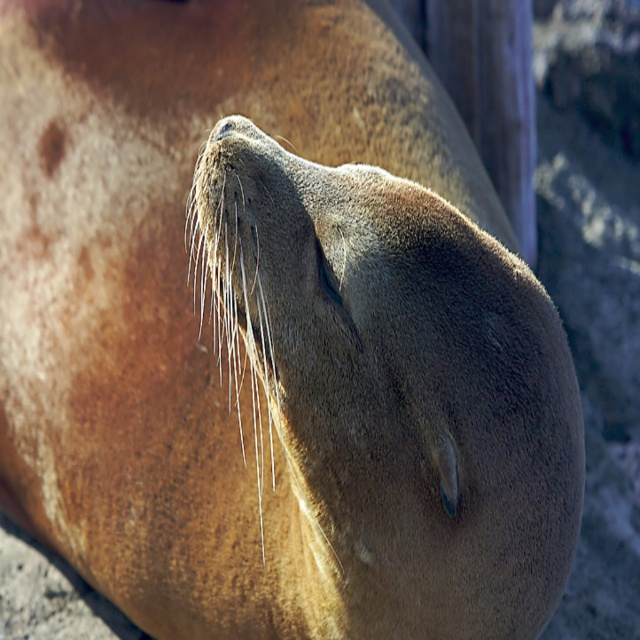Harbor seal: (0, 0, 589, 639)
